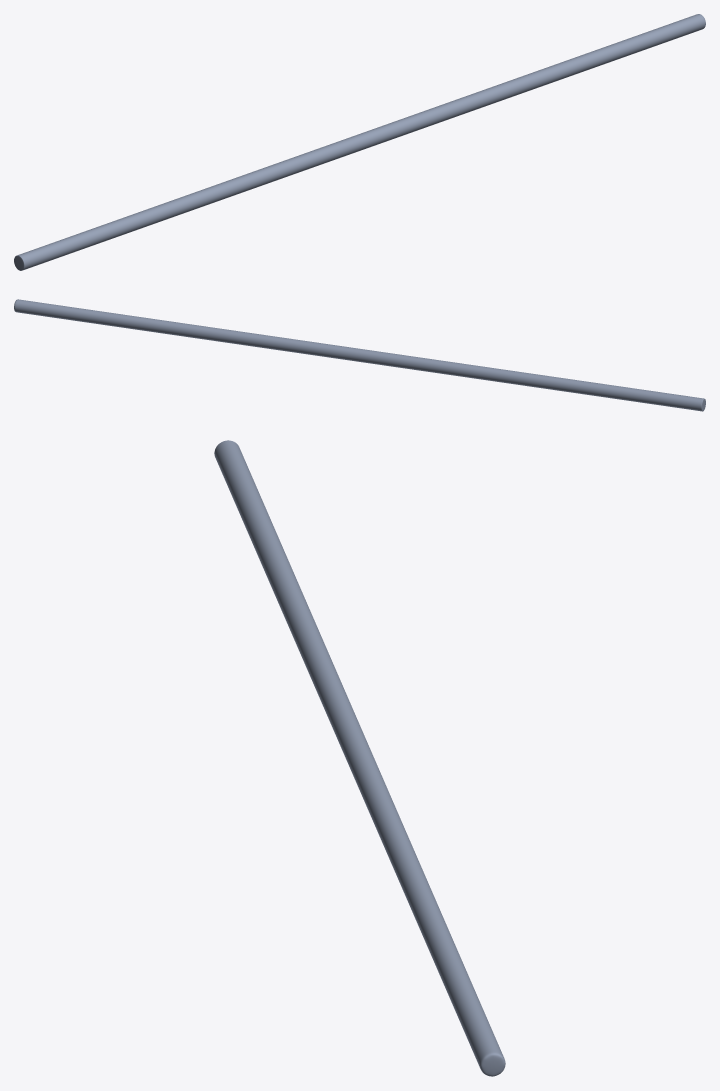
3 views of the same model, one above another, from view 1: azimuth 30°, elevation 25°; view 2: azimuth 150°, elevation 25°; view 3: azimuth 270°, elevation 25° (orthographic). The views are drawn at different scales.
Parts seen in each view (by area): view 1: Cylinder.002; view 2: Cylinder.002; view 3: Cylinder.002.
Part boxes in pixels (x1=…): Cylinder.002: x1=14, y1=14, x2=705, y2=270; Cylinder.002: x1=14, y1=299, x2=705, y2=411; Cylinder.002: x1=214, y1=440, x2=505, y2=1076.
Bounding box in the file's own units: 0.1471 × 0.00346 × 0.0297.
